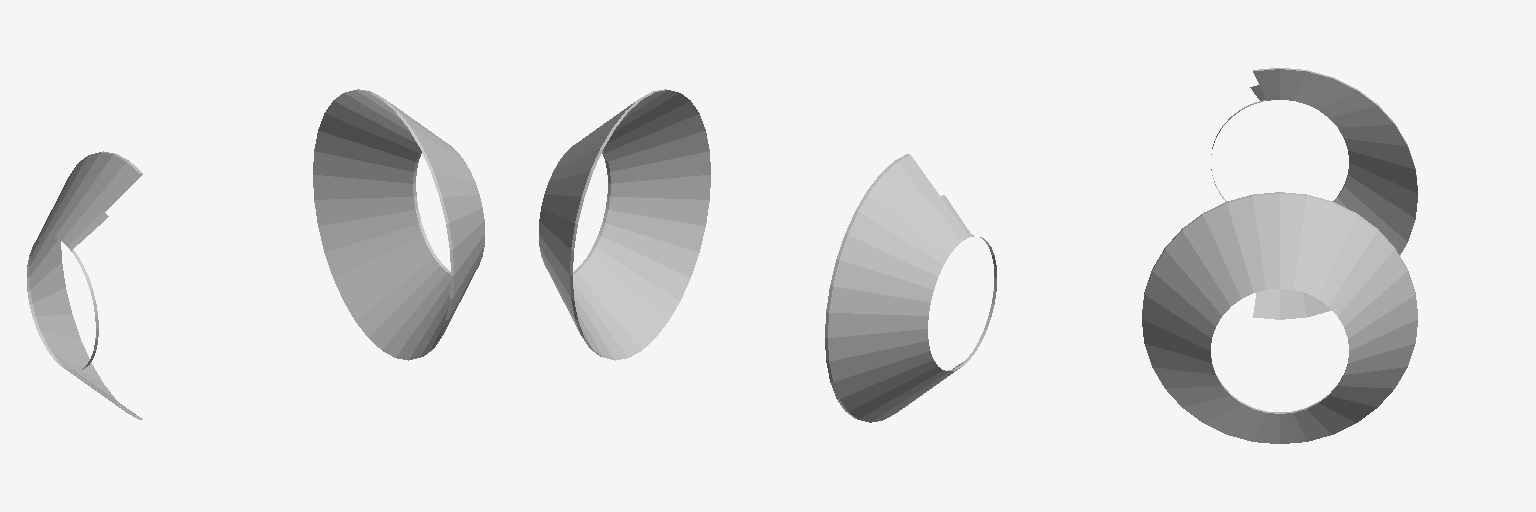
File: RearHubGuardsRHD.obj
The picture shows the model from 3 angles: view 1: azimuth 30°, elevation 25°; view 2: azimuth 150°, elevation 25°; view 3: azimuth 270°, elevation 25°; orthographic projection.
Parts seen in each view (by area): view 1: BothRHD; view 2: BothRHD; view 3: BothRHD.
Part boxes in pixels (x1,y1,x2,y2): BothRHD: (27, 89, 484, 419); BothRHD: (539, 89, 996, 422); BothRHD: (1142, 68, 1417, 443).
Bounding box in the file's own units: 0.1074 × 0.066 × 0.066.